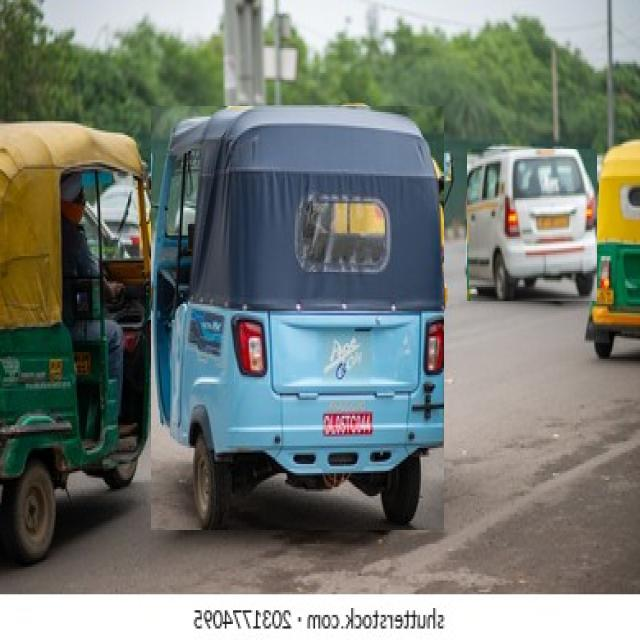autorickshaw: (151, 106, 444, 530), (0, 122, 149, 561), (586, 139, 640, 358)
car: (467, 150, 596, 301)
